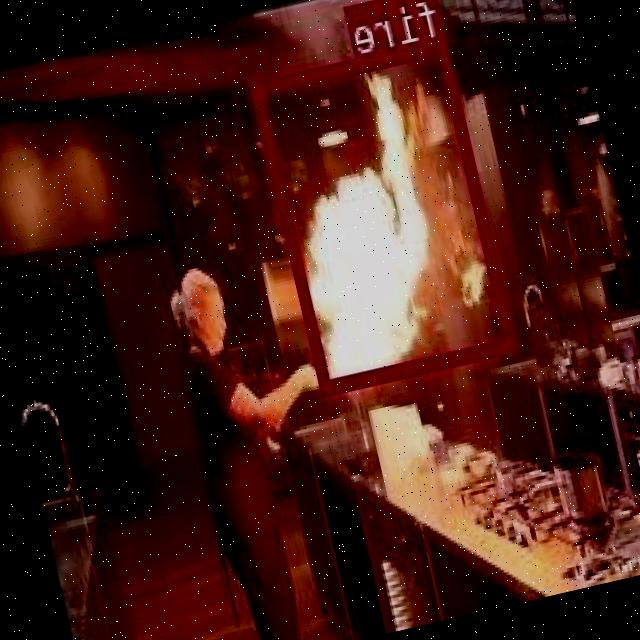fire: (251, 34, 518, 392)
